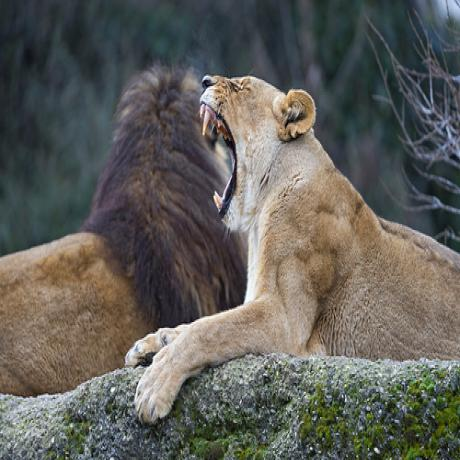Lion: (0, 59, 249, 403), (190, 60, 460, 366)
